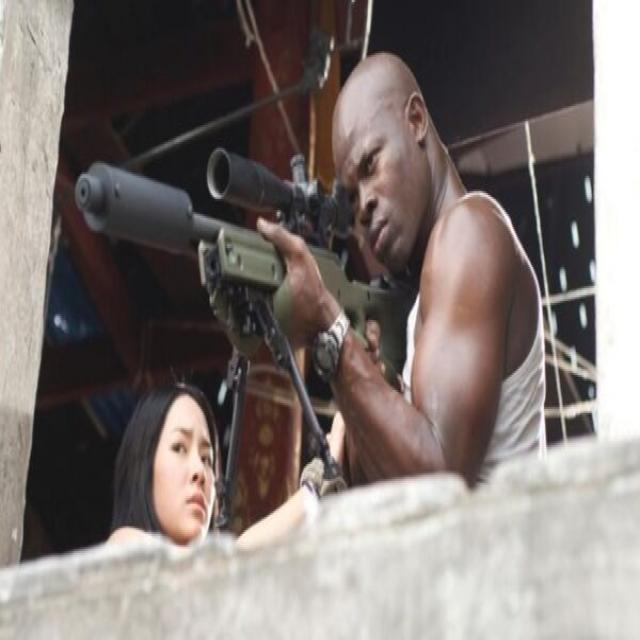rifle: (66, 122, 415, 388)
